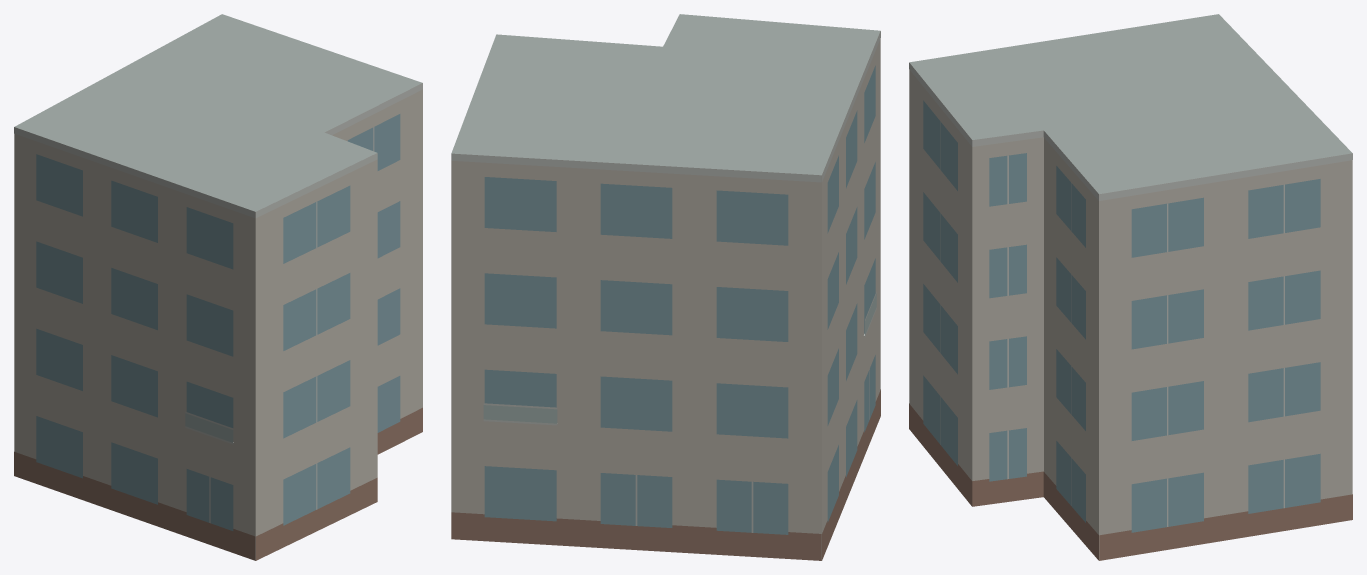
The model's file is survey-upis-32861293.glb.
3 renders of one model, left to right at view 1: azimuth 30°, elevation 25°; view 2: azimuth 150°, elevation 25°; view 3: azimuth 270°, elevation 25°, orthographic. The views are drawn at different scales.
Parts seen in each view (by area): view 1: survey-upis-32861293.tmp; view 2: survey-upis-32861293.tmp; view 3: survey-upis-32861293.tmp.
Part boxes in pixels (x1,y1,x2,y2): survey-upis-32861293.tmp: (14,14,422,560); survey-upis-32861293.tmp: (451,14,880,560); survey-upis-32861293.tmp: (909,14,1352,560).
Size of the model in its own units: 13.77 by 13.05 by 14.32.
